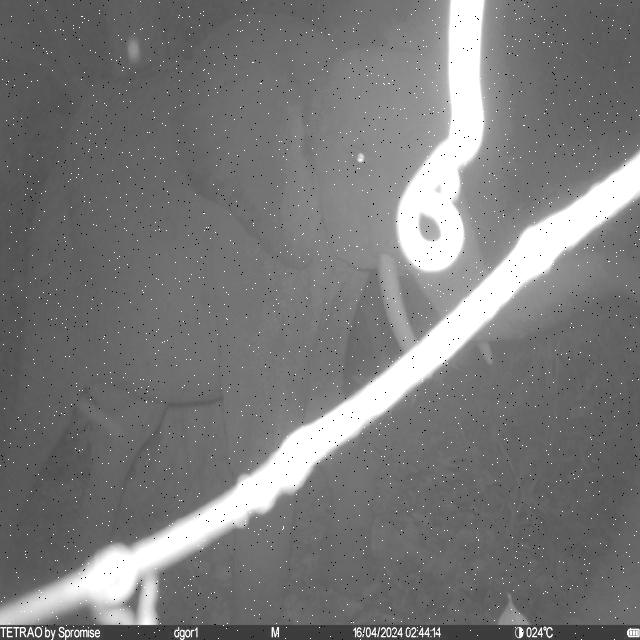ear: (176, 10, 338, 273)
elephant: (2, 9, 639, 626)
tusk: (376, 253, 418, 354), (477, 339, 495, 367)
